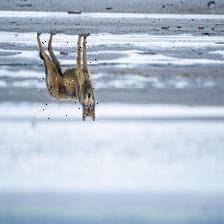WOLF: (38, 31, 99, 120)
